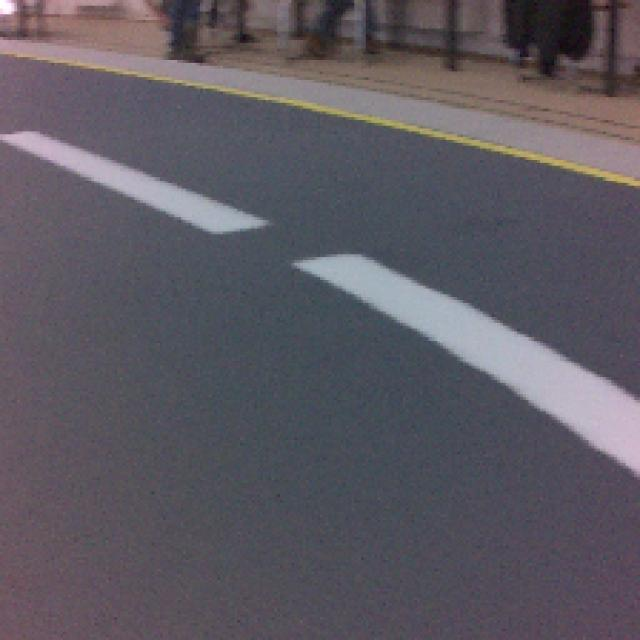Road: (0, 465, 639, 640)
